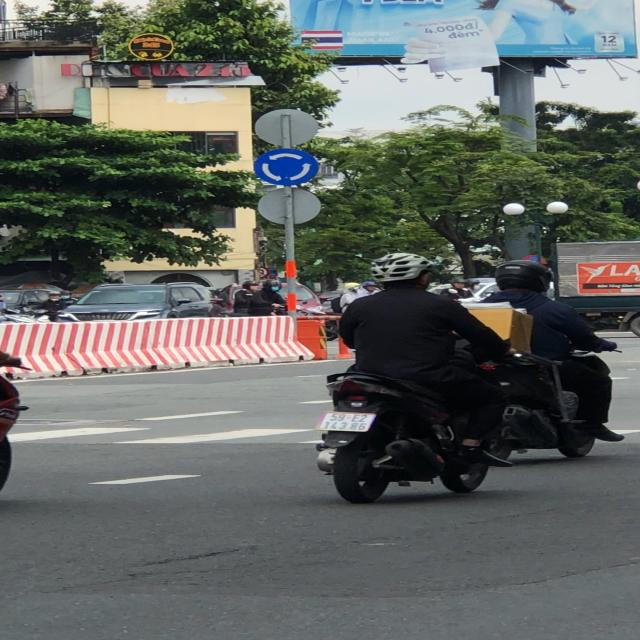Bien bao noi giao nhau chay theo vong xuyen: (245, 142, 329, 188)
